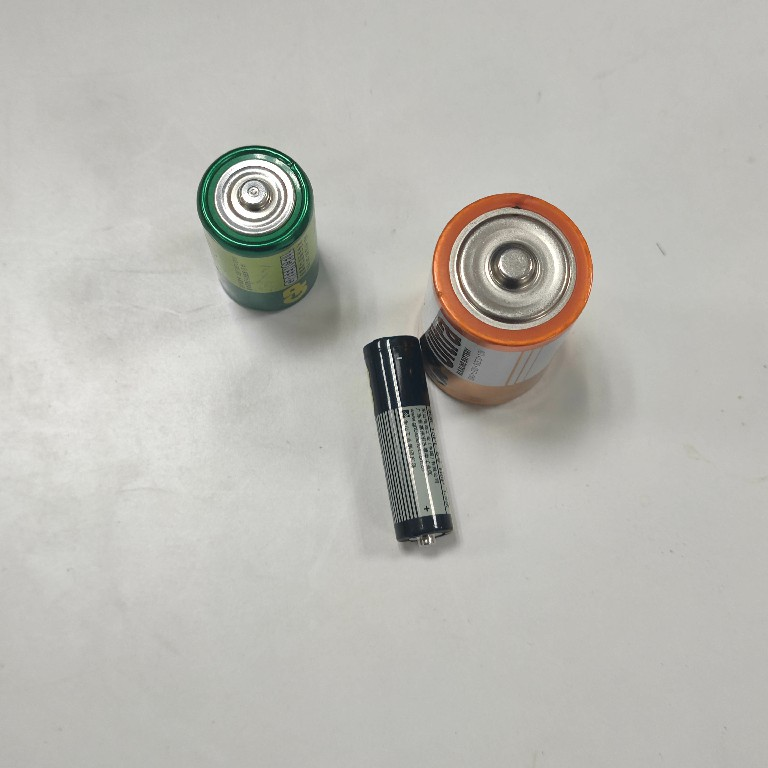charge: (416, 188, 597, 411), (192, 142, 326, 316), (360, 334, 455, 550)
